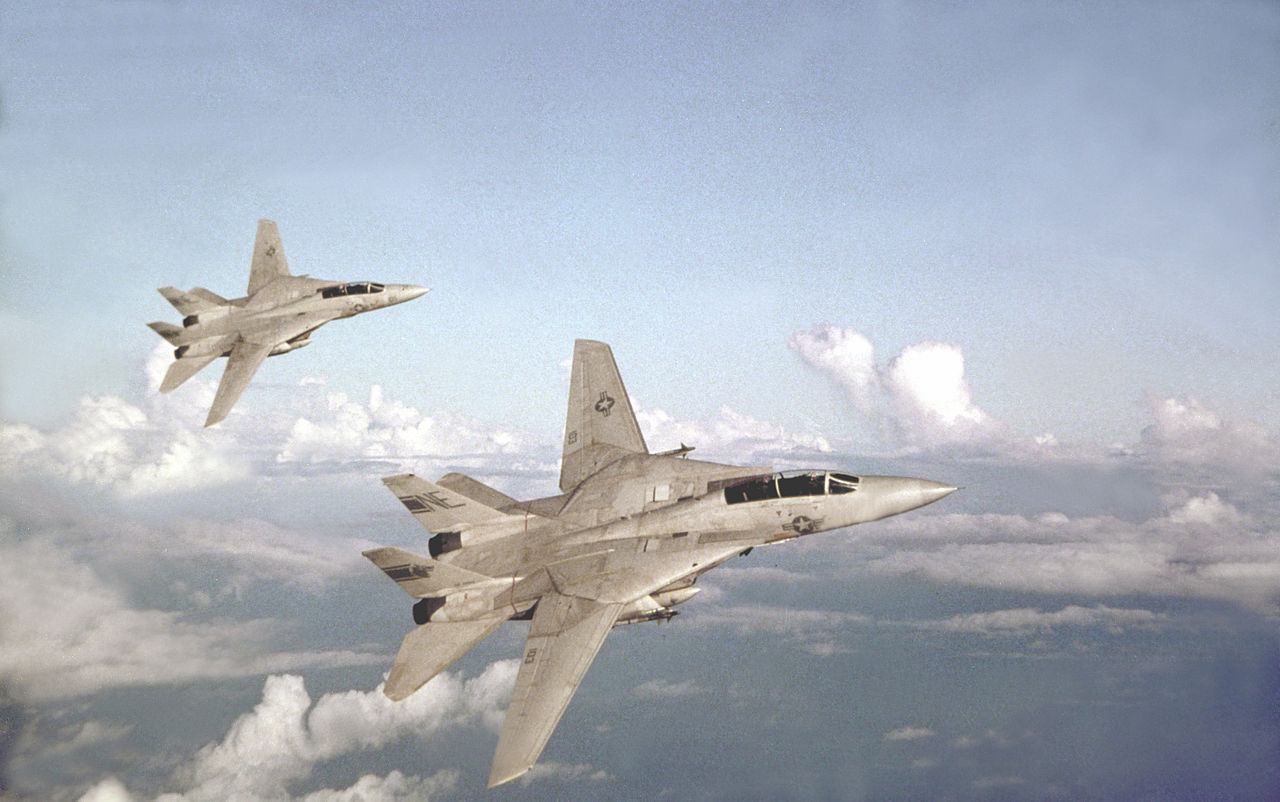F14: (360, 337, 965, 788), (145, 218, 435, 428)
